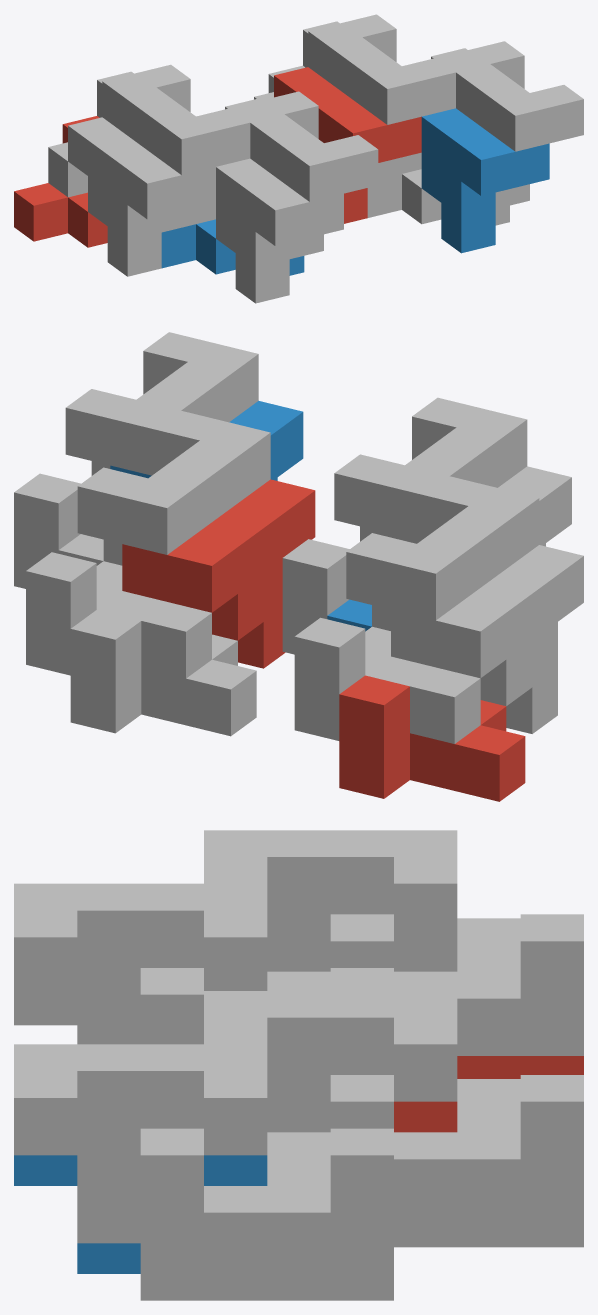
File: tiling.obj
3 renders of one model, top to bottom at view 1: azimuth 30°, elevation 25°; view 2: azimuth 150°, elevation 25°; view 3: azimuth 270°, elevation 25°, orthographic. The views are drawn at different scales.
Visible parts, largest first — view 1: copy_2_domain_1, copy_2_domain_6, copy_2_domain_2, copy_2_domain_3, copy_2_domain_7, copy_2_domain_4, copy_2_domain_8, copy_2_domain_5, copy_1_domain_1, copy_1_domain_2, copy_1_domain_6, copy_1_domain_3 (+3 smaller); view 2: copy_2_domain_1, copy_2_domain_5, copy_2_domain_7, copy_2_domain_3, copy_1_domain_5, copy_1_domain_1, copy_2_domain_8, copy_2_domain_4, copy_1_domain_3, copy_1_domain_7, copy_1_domain_4, copy_1_domain_8 (+4 smaller); view 3: copy_2_domain_8, copy_1_domain_8, copy_2_domain_4, copy_1_domain_7, copy_2_domain_3, copy_2_domain_7, copy_1_domain_3, copy_1_domain_6, copy_1_domain_4, copy_1_domain_5, copy_2_domain_6, copy_1_domain_1 (+3 smaller).
Part boxes in pixels (bbox=[...]): copy_2_domain_1: bbox=[68, 117, 215, 276]; copy_2_domain_6: bbox=[421, 108, 549, 253]; copy_2_domain_2: bbox=[216, 158, 343, 303]; copy_2_domain_3: bbox=[102, 64, 250, 232]; copy_2_domain_7: bbox=[308, 14, 455, 179]; copy_2_domain_4: bbox=[230, 91, 378, 258]; copy_2_domain_8: bbox=[437, 41, 583, 208]; copy_2_domain_5: bbox=[274, 67, 421, 223]; copy_1_domain_1: bbox=[14, 116, 107, 247]; copy_1_domain_2: bbox=[161, 219, 304, 275]; copy_1_domain_6: bbox=[367, 169, 509, 225]; copy_1_domain_3: bbox=[48, 71, 133, 197]; copy_2_domain_1: bbox=[391, 545, 583, 733]; copy_2_domain_5: bbox=[122, 479, 315, 668]; copy_2_domain_7: bbox=[77, 410, 270, 554]; copy_2_domain_3: bbox=[346, 476, 539, 620]; copy_1_domain_5: bbox=[70, 610, 256, 736]; copy_1_domain_1: bbox=[339, 675, 525, 801]; copy_2_domain_8: bbox=[65, 332, 258, 475]; copy_2_domain_4: bbox=[334, 397, 527, 540]; copy_1_domain_3: bbox=[294, 605, 480, 743]; copy_1_domain_7: bbox=[26, 539, 211, 678]; copy_1_domain_4: bbox=[282, 526, 378, 654]; copy_1_domain_8: bbox=[14, 461, 110, 588]; copy_2_domain_8: bbox=[14, 1044, 267, 1243]; copy_1_domain_8: bbox=[140, 1128, 393, 1269]; copy_2_domain_4: bbox=[14, 883, 267, 1044]; copy_1_domain_7: bbox=[330, 1075, 583, 1216]; copy_2_domain_3: bbox=[204, 830, 457, 971]; copy_2_domain_7: bbox=[204, 991, 457, 1132]; copy_1_domain_3: bbox=[330, 914, 583, 1055]; copy_1_domain_6: bbox=[140, 1270, 393, 1300]; copy_1_domain_4: bbox=[140, 968, 393, 1044]; copy_1_domain_5: bbox=[394, 1216, 583, 1247]; copy_2_domain_6: bbox=[14, 1155, 267, 1273]; copy_1_domain_1: bbox=[457, 1056, 583, 1078].
Bounding box in the file's own units: 12 × 4 × 9.
